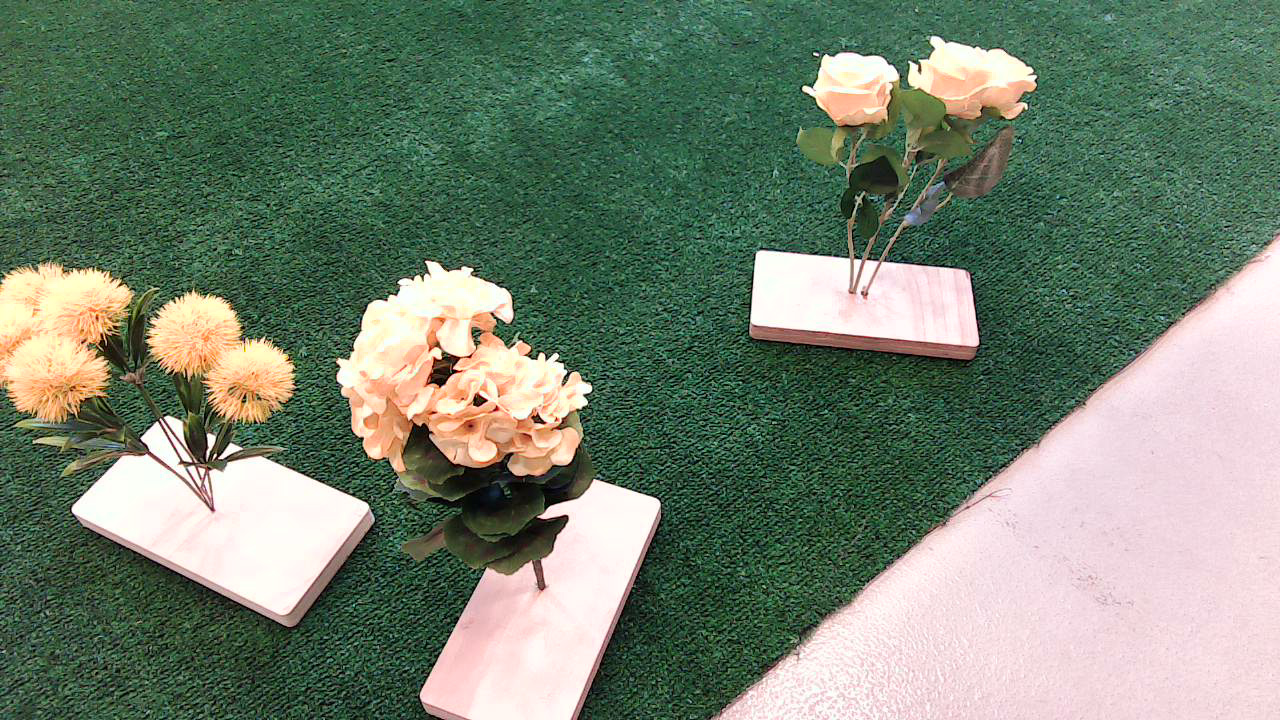dandelion: (4, 259, 324, 526)
geranium: (346, 253, 626, 574)
rose: (785, 37, 1026, 235)
